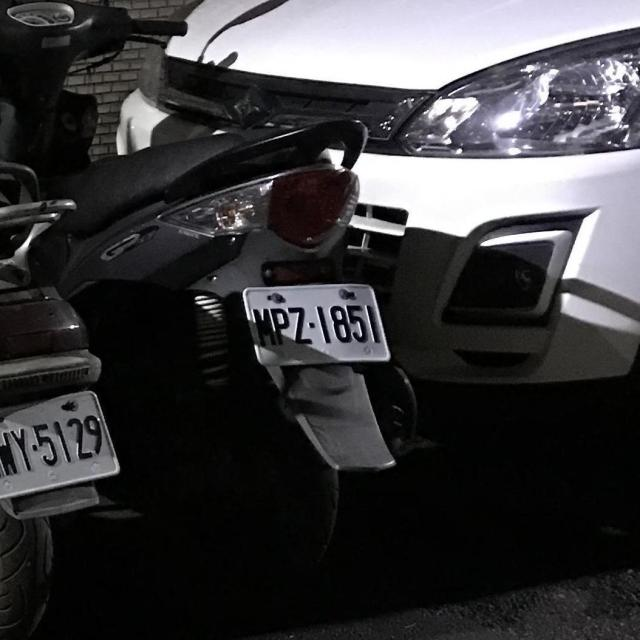W: (233, 262, 395, 385), (0, 381, 126, 512)
